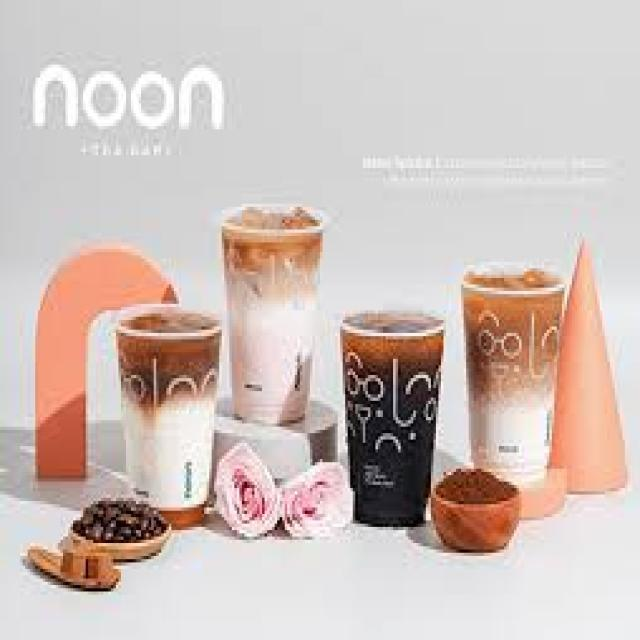cup: (116, 308, 221, 527), (221, 205, 324, 424), (341, 314, 444, 525), (463, 268, 564, 472)
